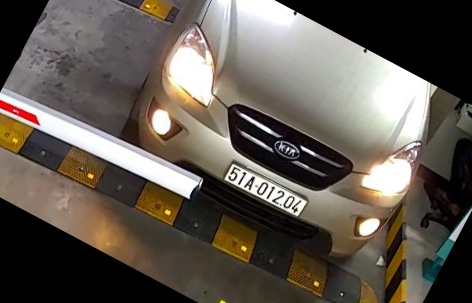plate: (224, 159, 315, 217)
